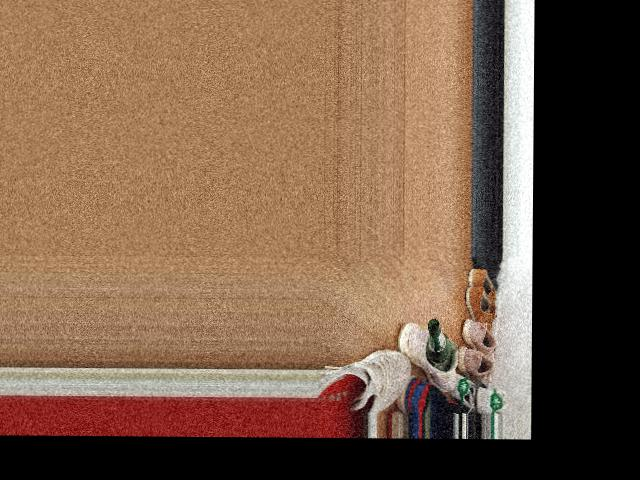beer: (426, 318, 451, 370)
